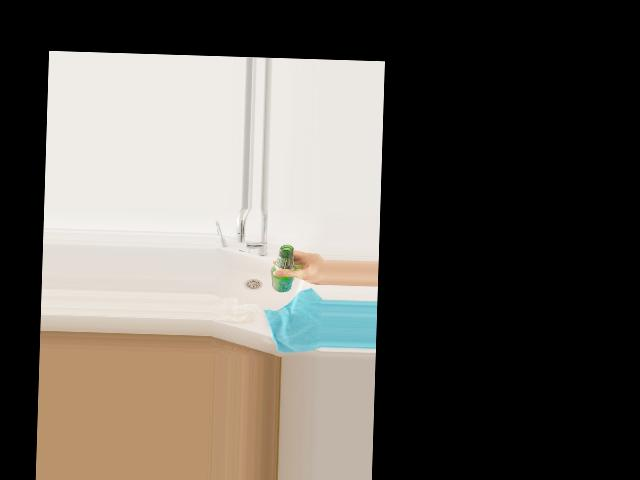beer: (270, 244, 297, 293)
